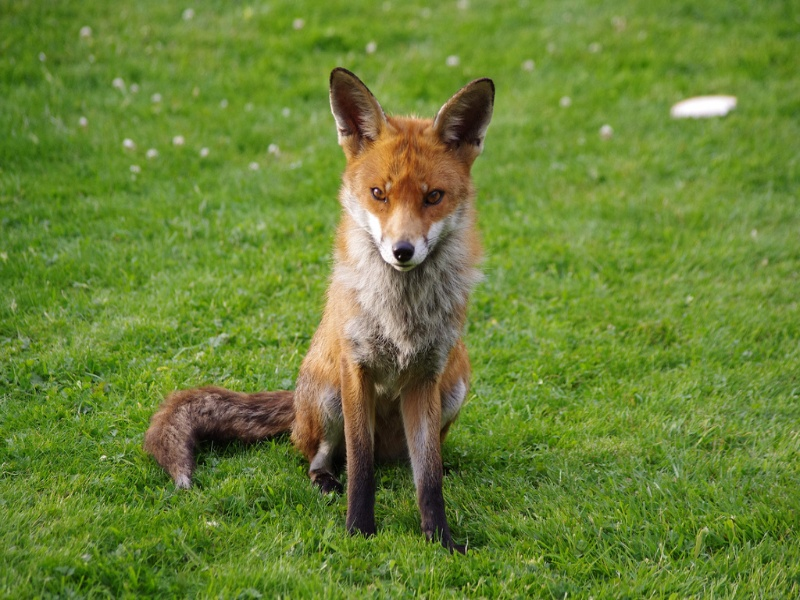fox: (130, 63, 503, 565)
